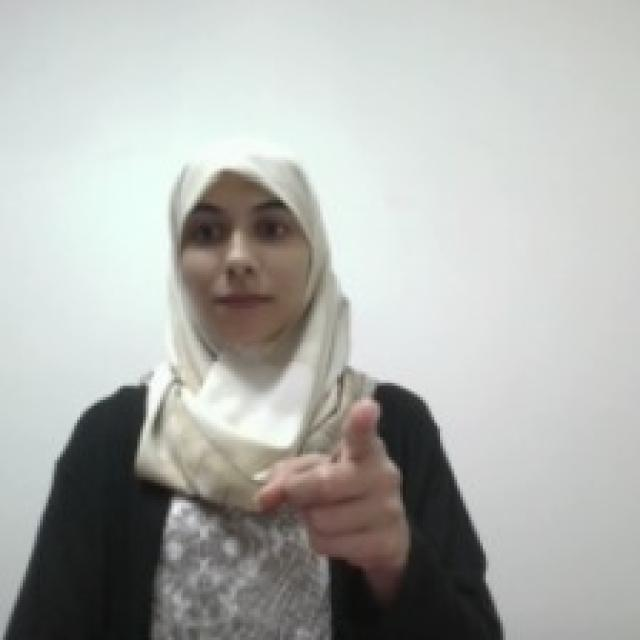you: (248, 391, 415, 573)
